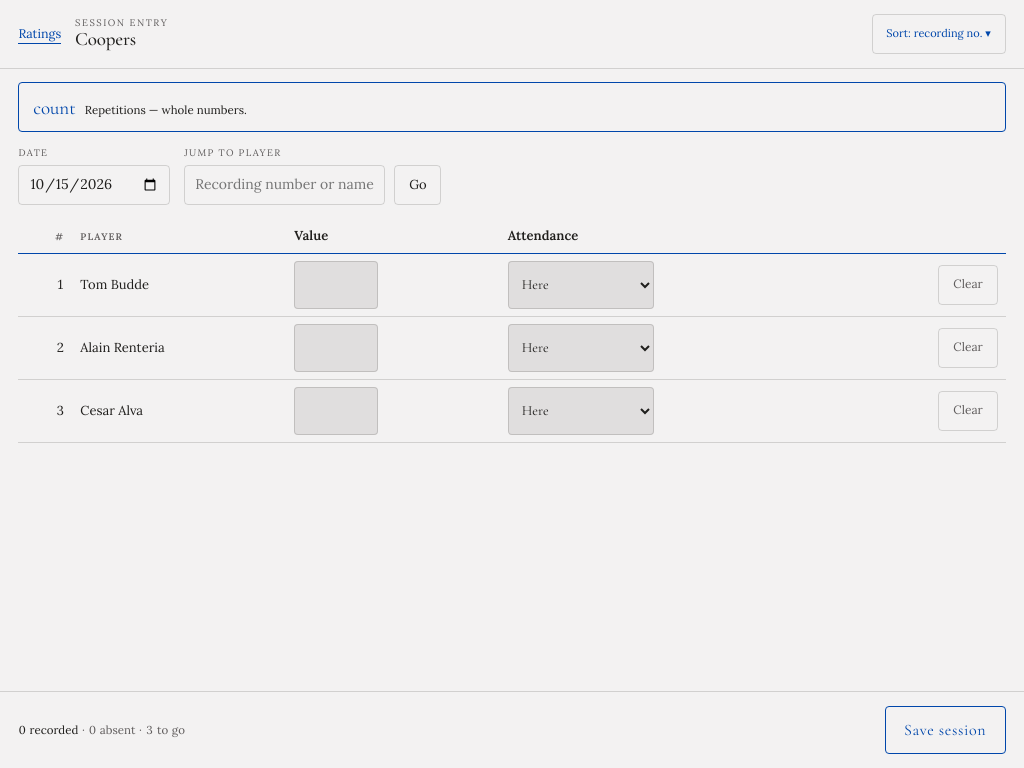
Test case: attendance follows what is typed › excuses a row when it is cleared, rather than marking a no-show
Type "2800" into the number field next to "Tom Budde" at [336, 285], box [294,261,378,309]
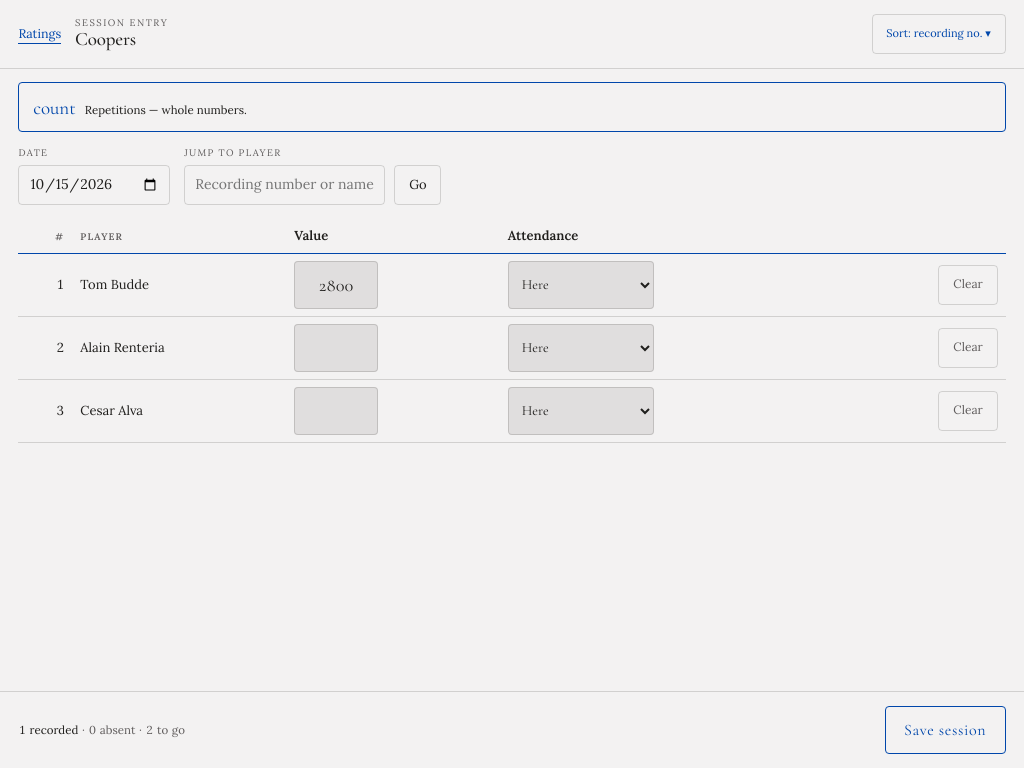
Click the button "Clear" in the row of "Tom Budde" at [968, 285], box [938,265,998,305]
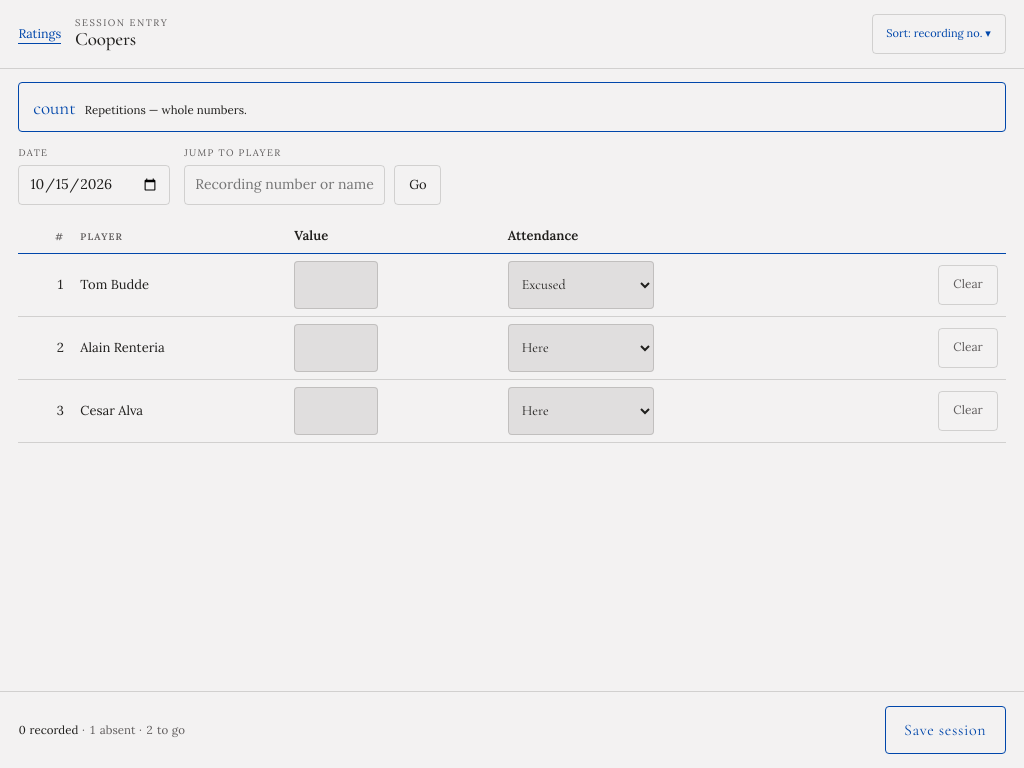
Expected: the dropdown in the row of "Tom Budde" shows "Excused", [508,261,654,309]
Expected: the number field next to "Tom Budde" is empty, [294,261,378,309]
